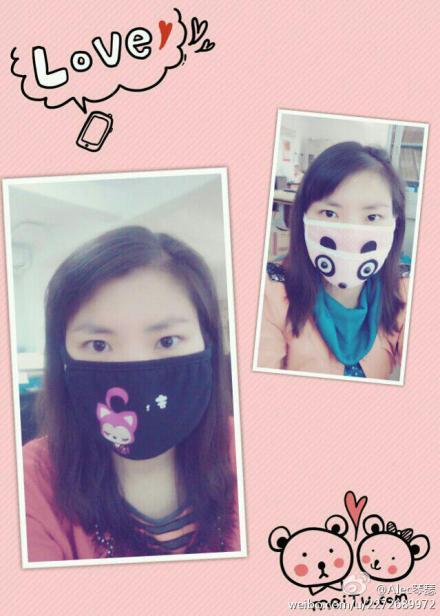OK: (66, 309, 211, 454), (307, 200, 398, 282)
